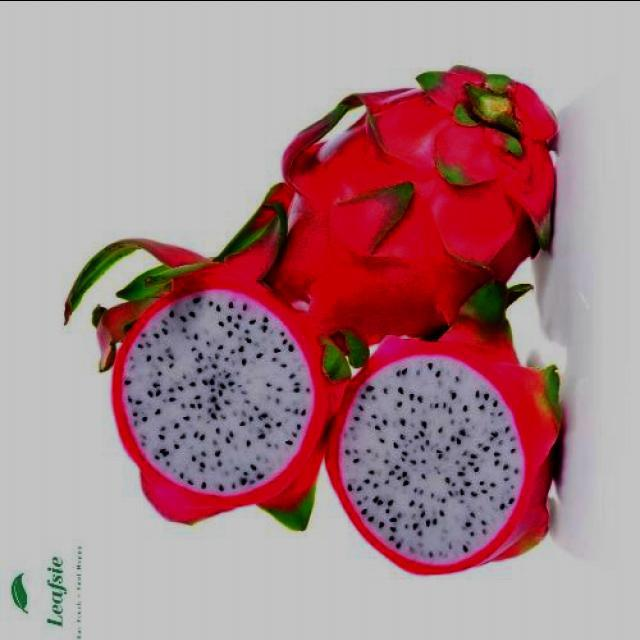trang: (286, 61, 556, 338), (102, 262, 338, 530), (326, 328, 568, 576)
